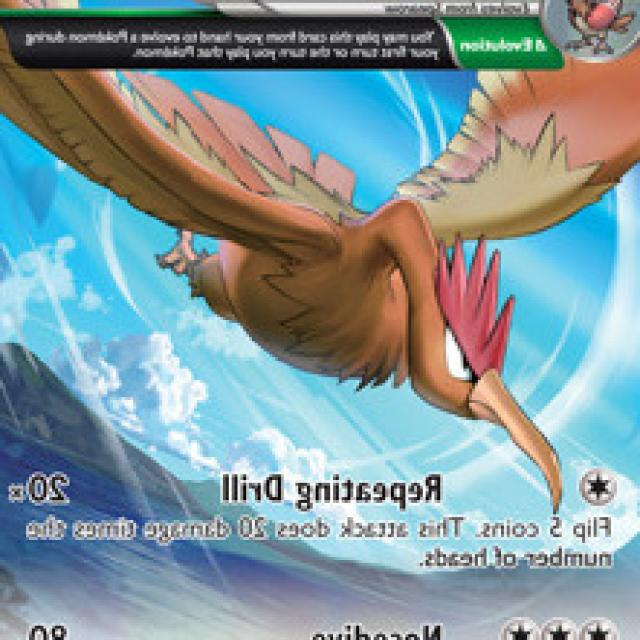Fearow: (147, 105, 615, 441)
